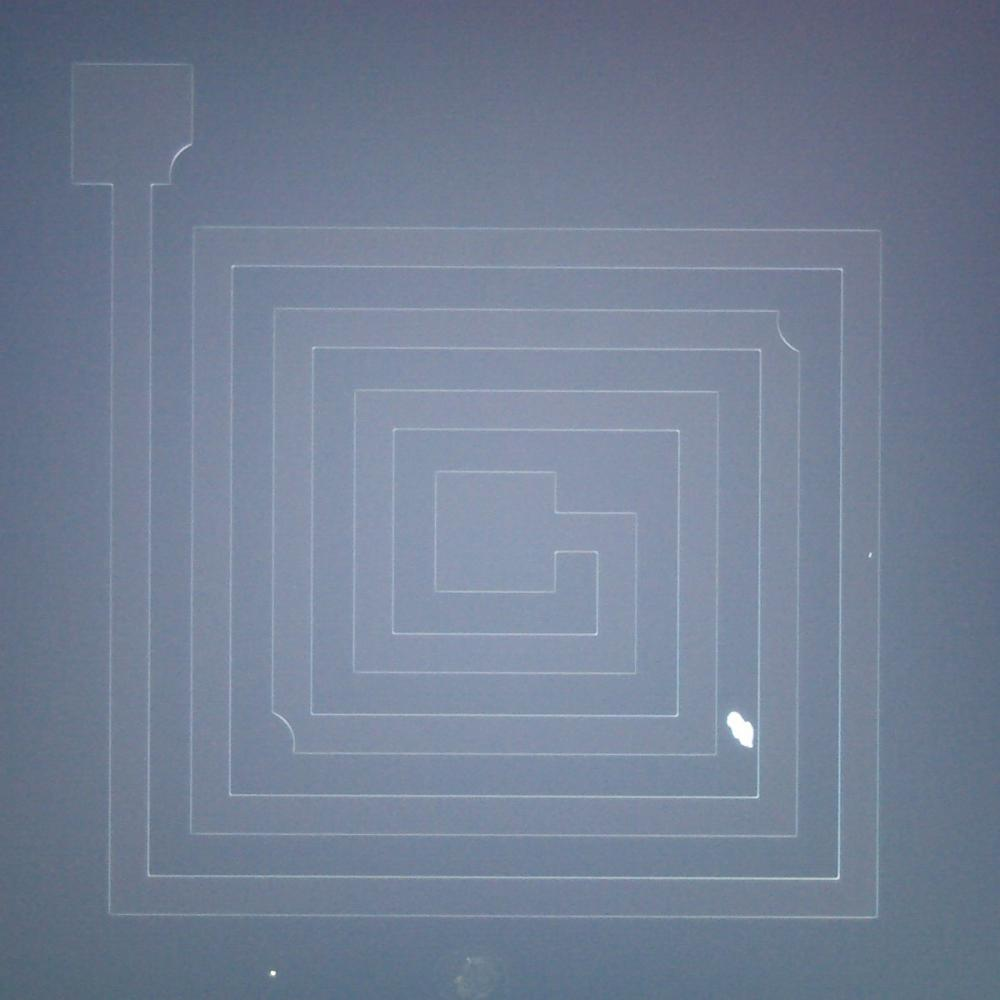Bdot: (721, 712, 756, 748)
dot: (271, 970, 277, 976), (868, 552, 874, 558)
